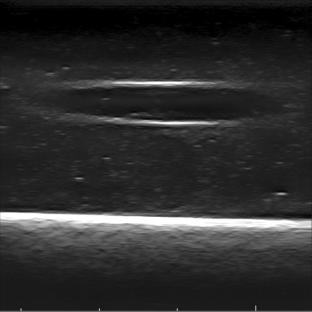vessel: (52, 79, 273, 128)
